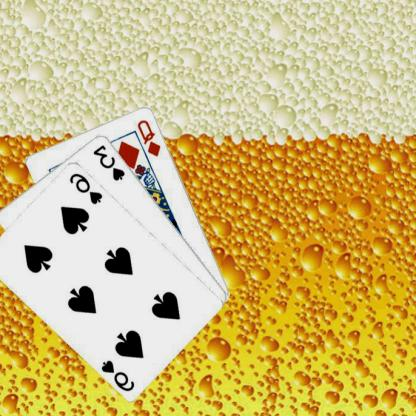3S: (92, 142, 128, 182)
6S: (68, 170, 106, 206), (100, 358, 138, 392)
QD: (136, 116, 164, 158)
